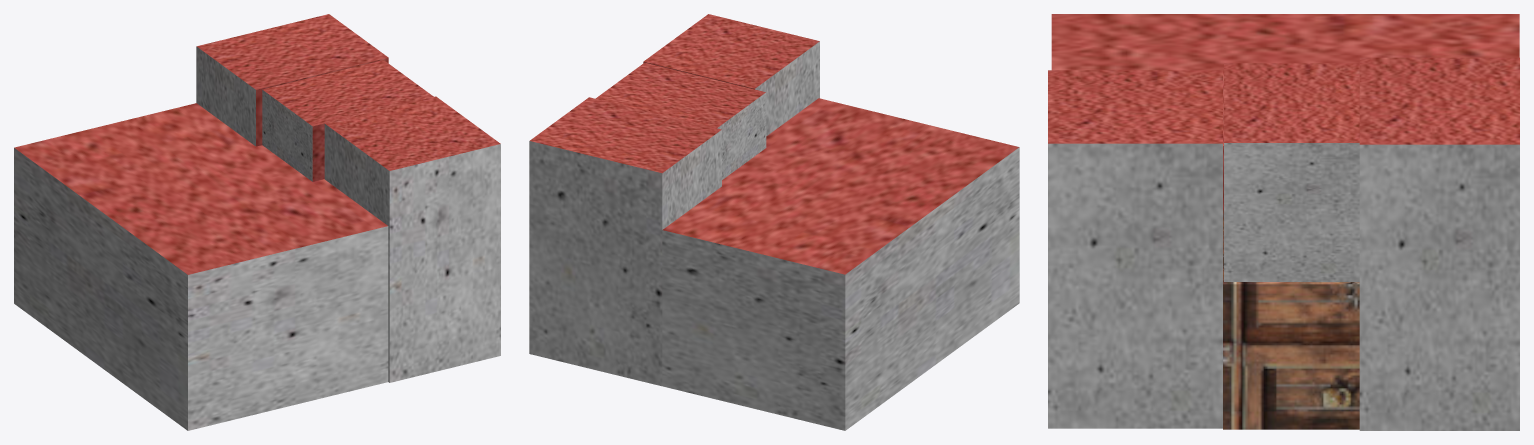
The model's file is casa11.obj.
3 views of the same model, side by side, from view 1: azimuth 30°, elevation 25°; view 2: azimuth 150°, elevation 25°; view 3: azimuth 270°, elevation 25° (orthographic). The views are drawn at different scales.
Parts seen in each view (by area): view 1: Cube.004, Cube.001, Cube.003, Cube.002; view 2: Cube.004, Cube.003, Cube.001, Cube.002; view 3: Cube.001, Cube.003, Cube.002, Cube.004, Cube.
Part boxes in pixels (x1=…): Cube.004: x1=14, y1=103, x2=388, y2=430; Cube.001: x1=324, y1=96, x2=500, y2=382; Cube.003: x1=196, y1=14, x2=388, y2=146; Cube.002: x1=262, y1=60, x2=433, y2=181; Cube.004: x1=662, y1=98, x2=1019, y2=430; Cube.003: x1=529, y1=97, x2=721, y2=386; Cube.001: x1=643, y1=14, x2=819, y2=135; Cube.002: x1=595, y1=62, x2=766, y2=179; Cube.001: x1=1048, y1=70, x2=1222, y2=428; Cube.003: x1=1359, y1=57, x2=1519, y2=430; Cube.002: x1=1224, y1=63, x2=1359, y2=281; Cube.004: x1=1051, y1=14, x2=1519, y2=210; Cube: x1=1223, y1=210, x2=1359, y2=429.
Size of the model in its own units: 9.35 by 6.03 by 9.
Materials: 9 (9 with a texture image).
